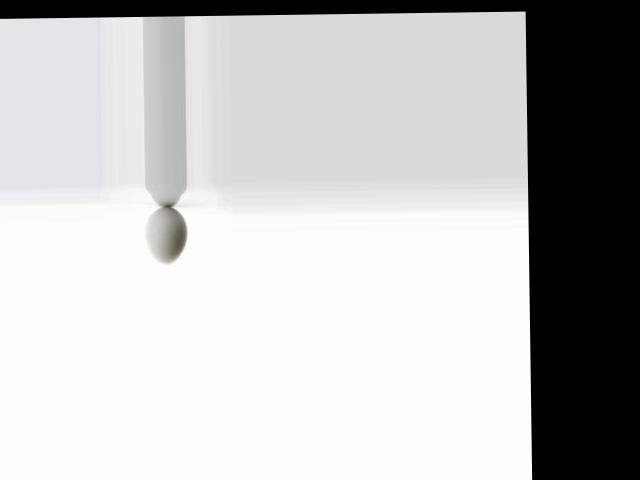egg: (145, 206, 187, 264)
